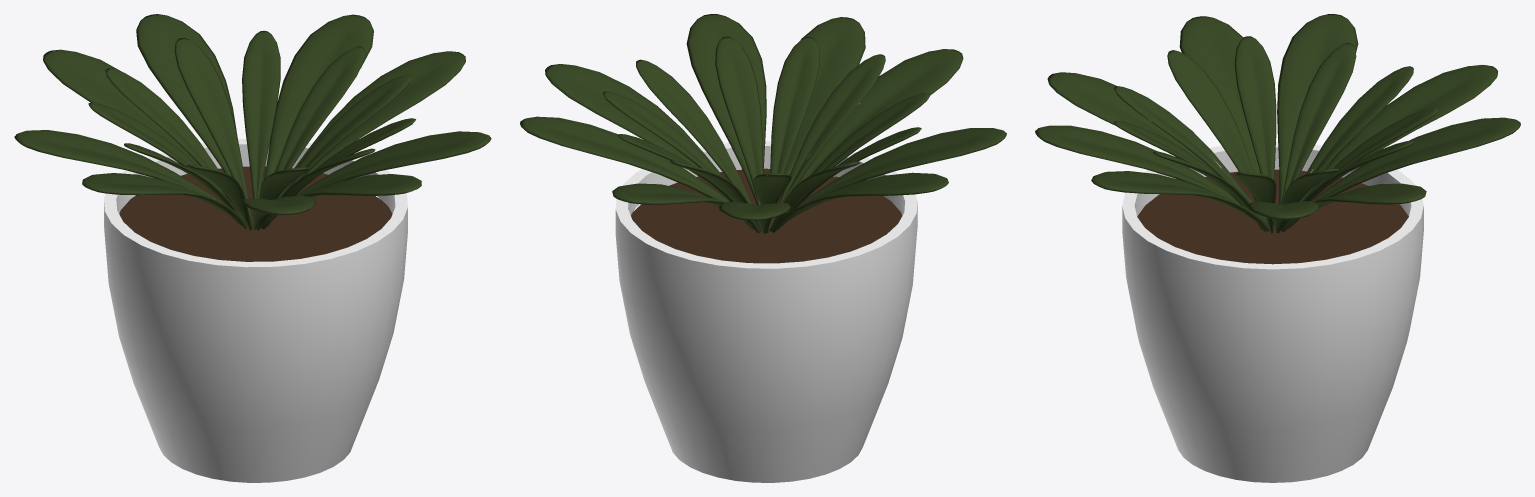
File: Planta pequeña.fbx
3 views of the same model, side by side, from view 1: azimuth 30°, elevation 25°; view 2: azimuth 150°, elevation 25°; view 3: azimuth 270°, elevation 25° (orthographic).
Visible parts, largest first — view 1: Plano.001; view 2: Plano.001; view 3: Plano.001.
Boxes of the visible parts, x1,y1,x2,y2 form: Plano.001: (14, 14, 491, 482); Plano.001: (520, 14, 1006, 482); Plano.001: (1035, 14, 1520, 482).
Bounding box in the file's own units: 25.16 × 19.32 × 25.25.
